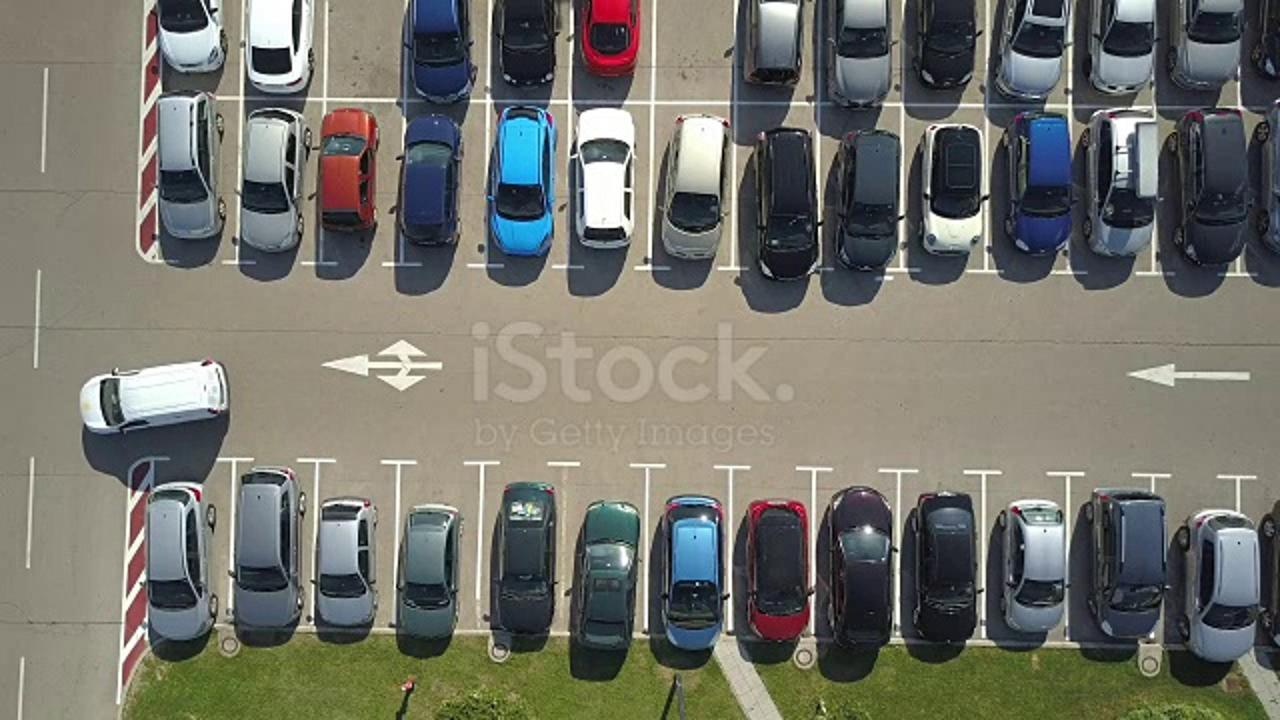car: (1085, 480, 1174, 638), (139, 477, 219, 649), (226, 465, 306, 636), (148, 86, 227, 246), (998, 110, 1077, 270), (1083, 102, 1162, 262), (1173, 102, 1252, 262), (832, 122, 911, 282), (733, 487, 812, 647), (564, 105, 643, 265), (904, 489, 983, 649), (750, 126, 829, 286), (822, 484, 901, 644), (654, 490, 733, 650), (488, 481, 567, 641), (659, 104, 738, 264), (481, 99, 560, 259), (920, 117, 993, 264), (394, 501, 468, 645), (309, 100, 384, 239), (395, 109, 464, 250), (390, 1, 477, 96), (234, 1, 320, 92), (739, 1, 821, 91)
